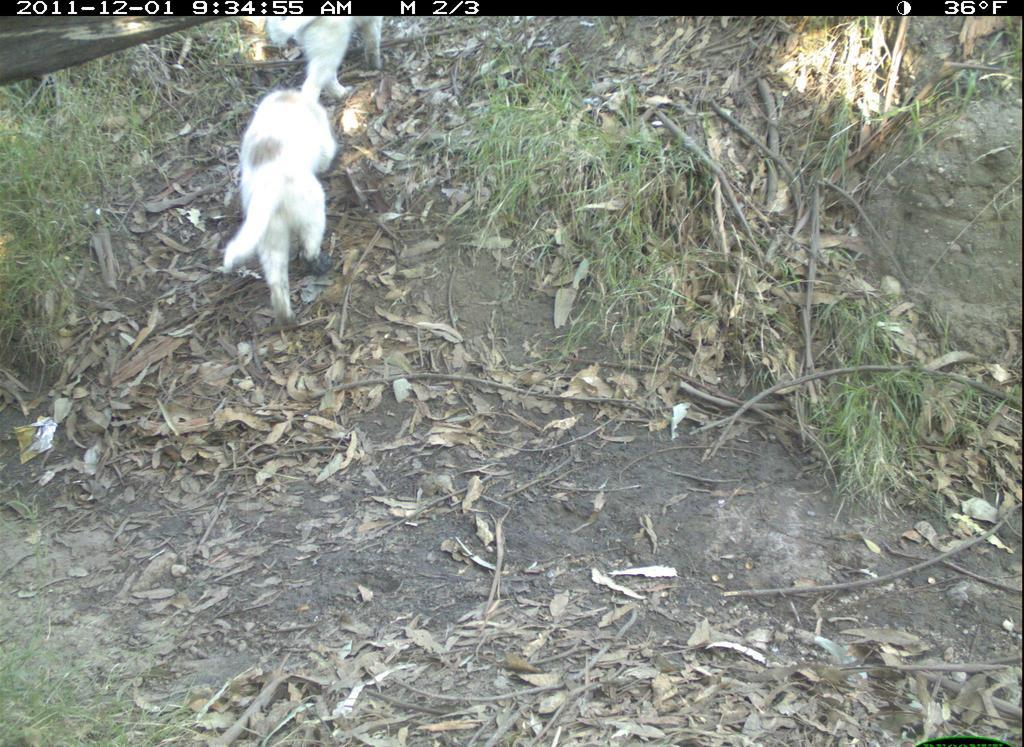dog: (204, 77, 336, 340), (204, 1, 433, 109)
